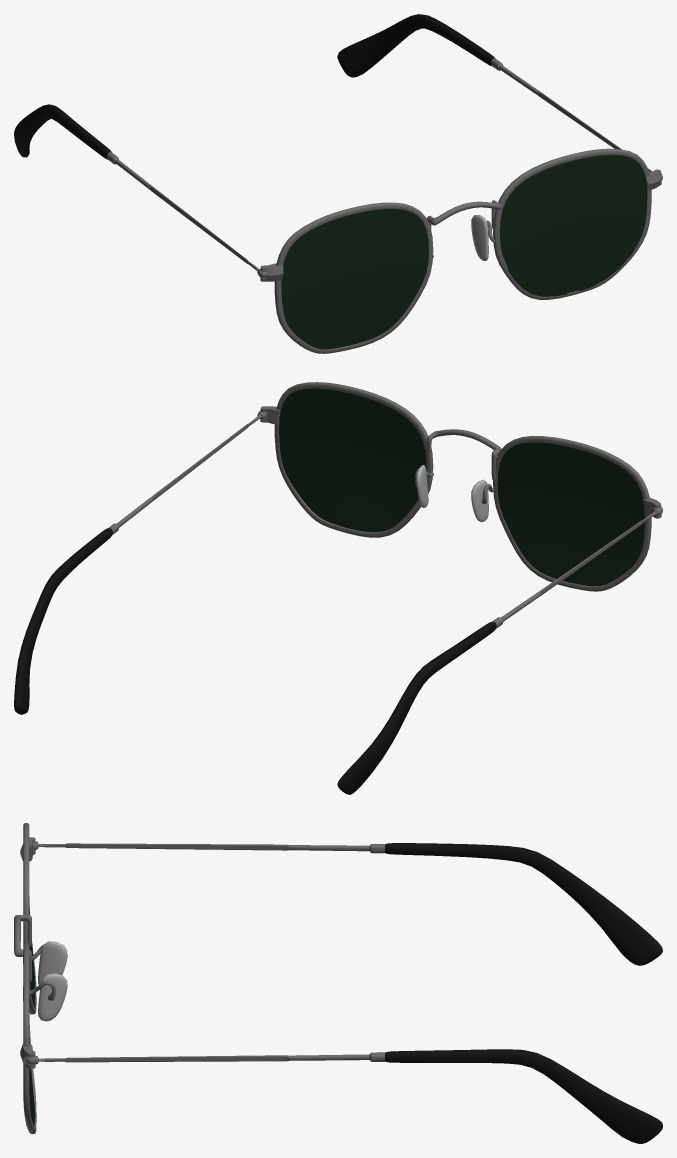
The model's file is osee_1.obj.
3 views of the same model, one above another, from view 1: azimuth 30°, elevation 25°; view 2: azimuth 150°, elevation 25°; view 3: azimuth 270°, elevation 25° (orthographic). The views are drawn at different scales.
Visible parts, largest first — view 1: Plane.002_Plane.004; view 2: Plane.002_Plane.004; view 3: Plane.002_Plane.004.
Part boxes in pixels (box(x1,y1,x2,y2)): Plane.002_Plane.004: box(14, 14, 662, 353); Plane.002_Plane.004: box(14, 382, 662, 794); Plane.002_Plane.004: box(14, 823, 662, 1143).
Bounding box in the file's own units: 0.1481 × 0.0504 × 0.1857.
